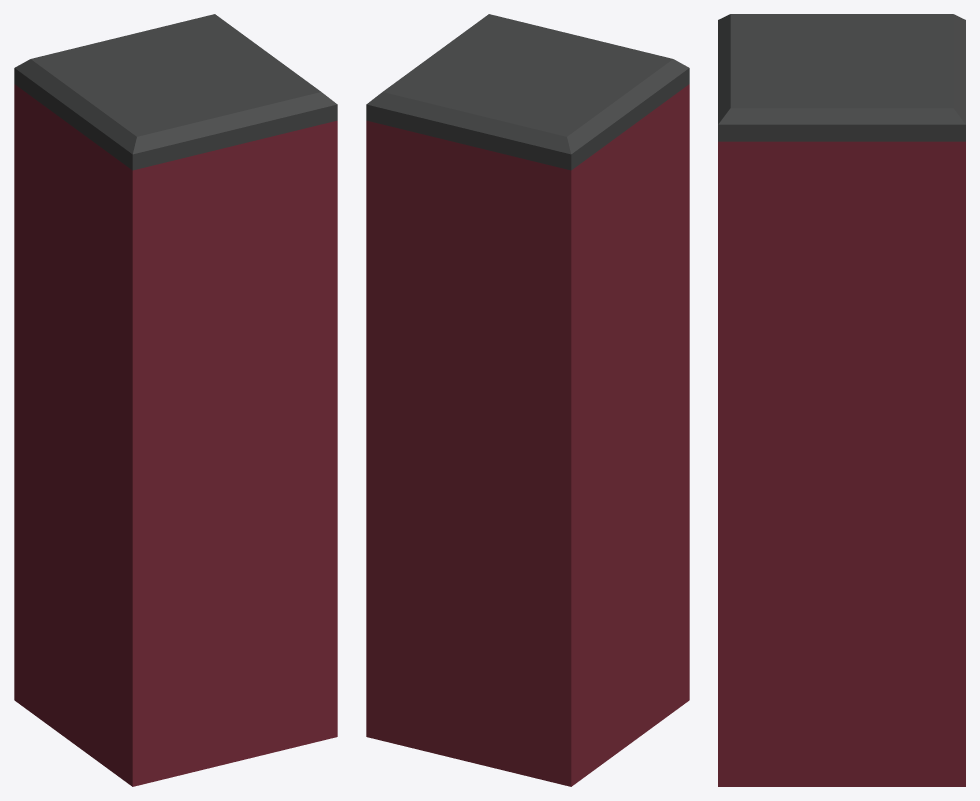
File: Tile_Cliff2.fbx
3 views of the same model, side by side, from view 1: azimuth 30°, elevation 25°; view 2: azimuth 150°, elevation 25°; view 3: azimuth 270°, elevation 25° (orthographic). The views are drawn at different scales.
Parts seen in each view (by area): view 1: Cube; view 2: Cube; view 3: Cube.
Boxes of the visible parts, <box> form: Cube: <box>14,14,337,786</box>; Cube: <box>366,14,689,786</box>; Cube: <box>718,14,965,786</box>.
Size of the model in its own units: 2 by 6 by 2.
